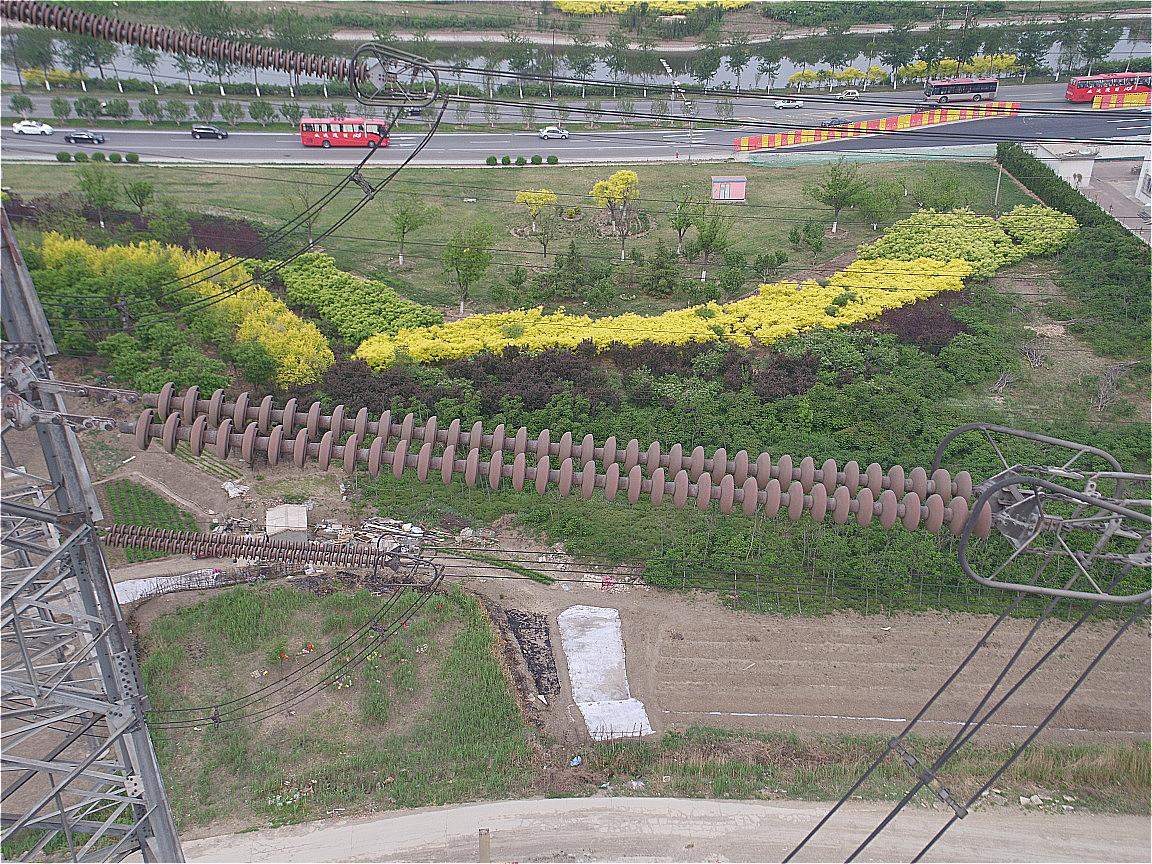insultor1: (138, 381, 995, 533)
insultor2: (5, 3, 368, 83), (106, 521, 389, 570)
